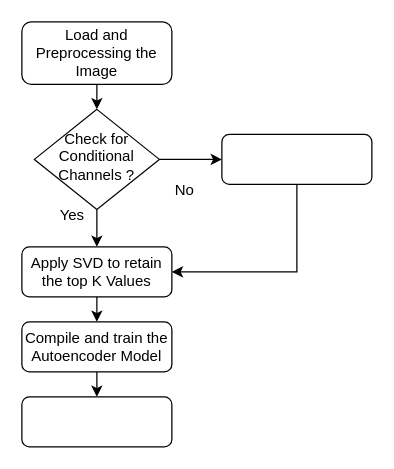
The diagram is 394 pixels wide and 469 high, and some of its shapes have lost their labels. Each missing label, with the centre of its shape:
"Grayscale Conversion Process" belongs at [296,158].
"Reconstruct the image" belongs at [96,421].
